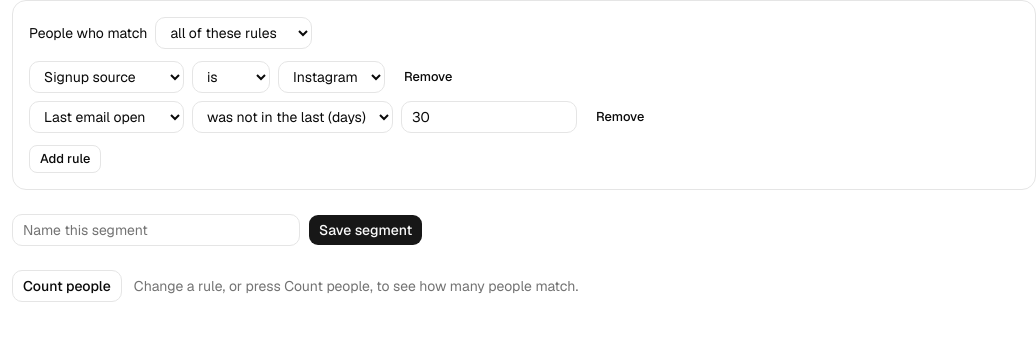
Test case: SegmentBuilder › says the segment matches everyone when the last rule is removed
The image size is (1036, 353).
Step 1. Click the button with aria-label "Remove rule 2" → (620, 117), box [585,103,655,131]
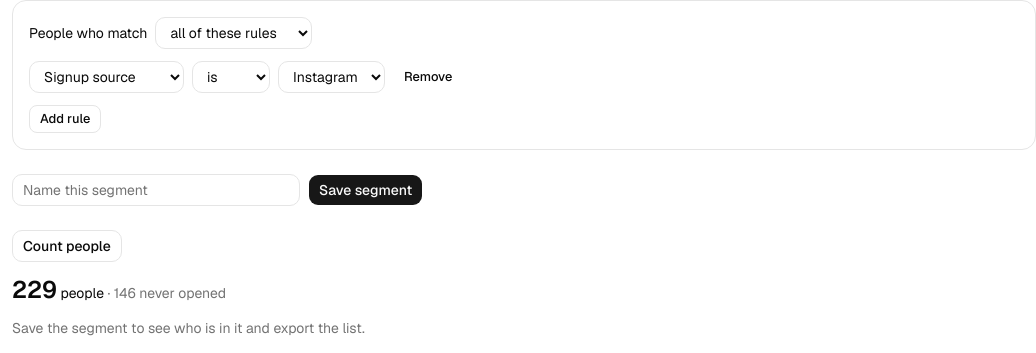
Step 2. Click the button with aria-label "Remove rule 1" → (428, 77), box [393,63,463,91]
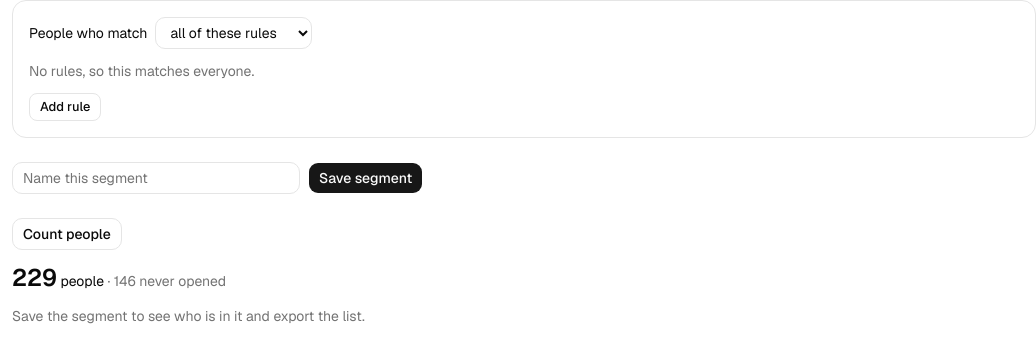
Check: the text "No rules, so this matches everyone." is shown, box [29,62,254,80]
